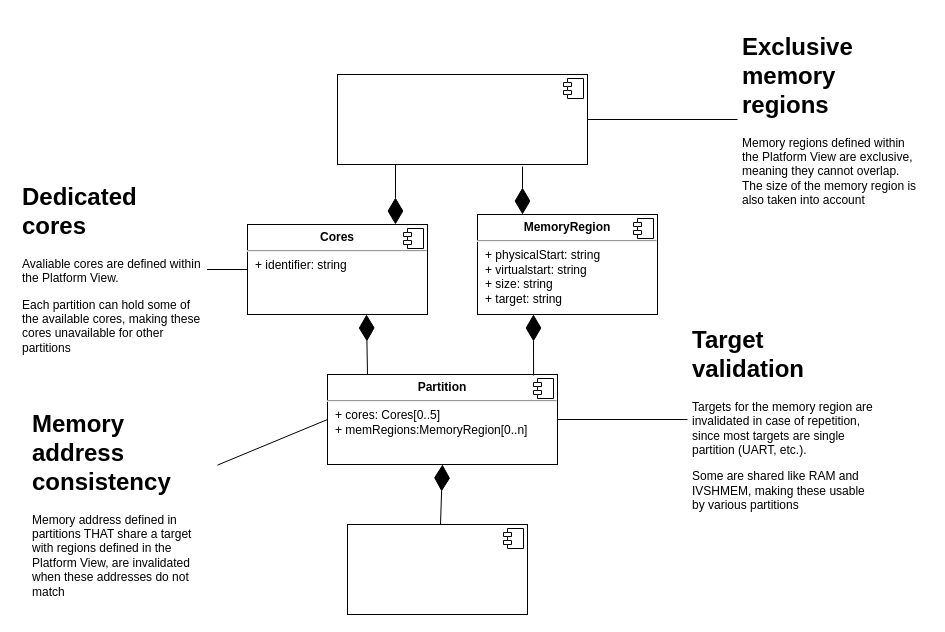
This 945x632 diagram has some shape labels left out. The shapes that lost their labels are listed below. From the top down, each one's box as (x1, y1, x2, y2) in pixels, then its label:
(336, 74, 588, 164): Platform + cores: Cores[0..5] + memRegions:MemoryRegion[0..n]
(346, 524, 528, 614): Hypervisor + partitions: Partition[0..n]
